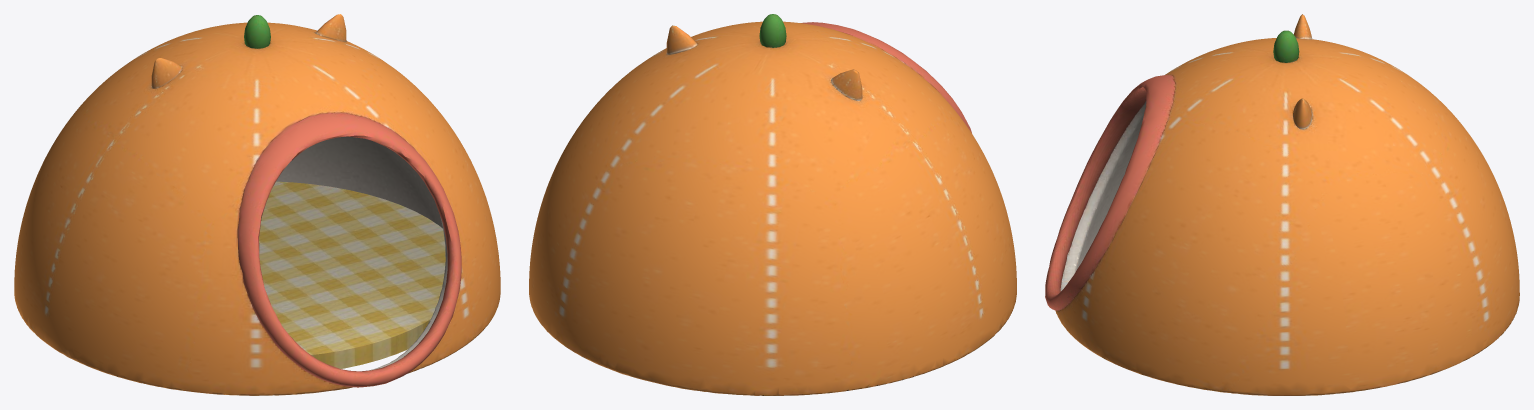
File: pumpkin_house.glb
The picture shows the model from 3 angles, left to right: view 1: azimuth 30°, elevation 25°; view 2: azimuth 150°, elevation 25°; view 3: azimuth 270°, elevation 25°; orthographic projection. The views are drawn at different scales.
Visible parts, largest first — view 1: pumpkin_house; view 2: pumpkin_house; view 3: pumpkin_house.
Part boxes in pixels (x1,y1,x2,y2): pumpkin_house: [14, 14, 500, 395]; pumpkin_house: [529, 14, 1016, 395]; pumpkin_house: [1045, 14, 1519, 395].
Bounding box in the file's own units: 1.44 × 0.91 × 1.46.
Materials: 1 (1 with a texture image).
